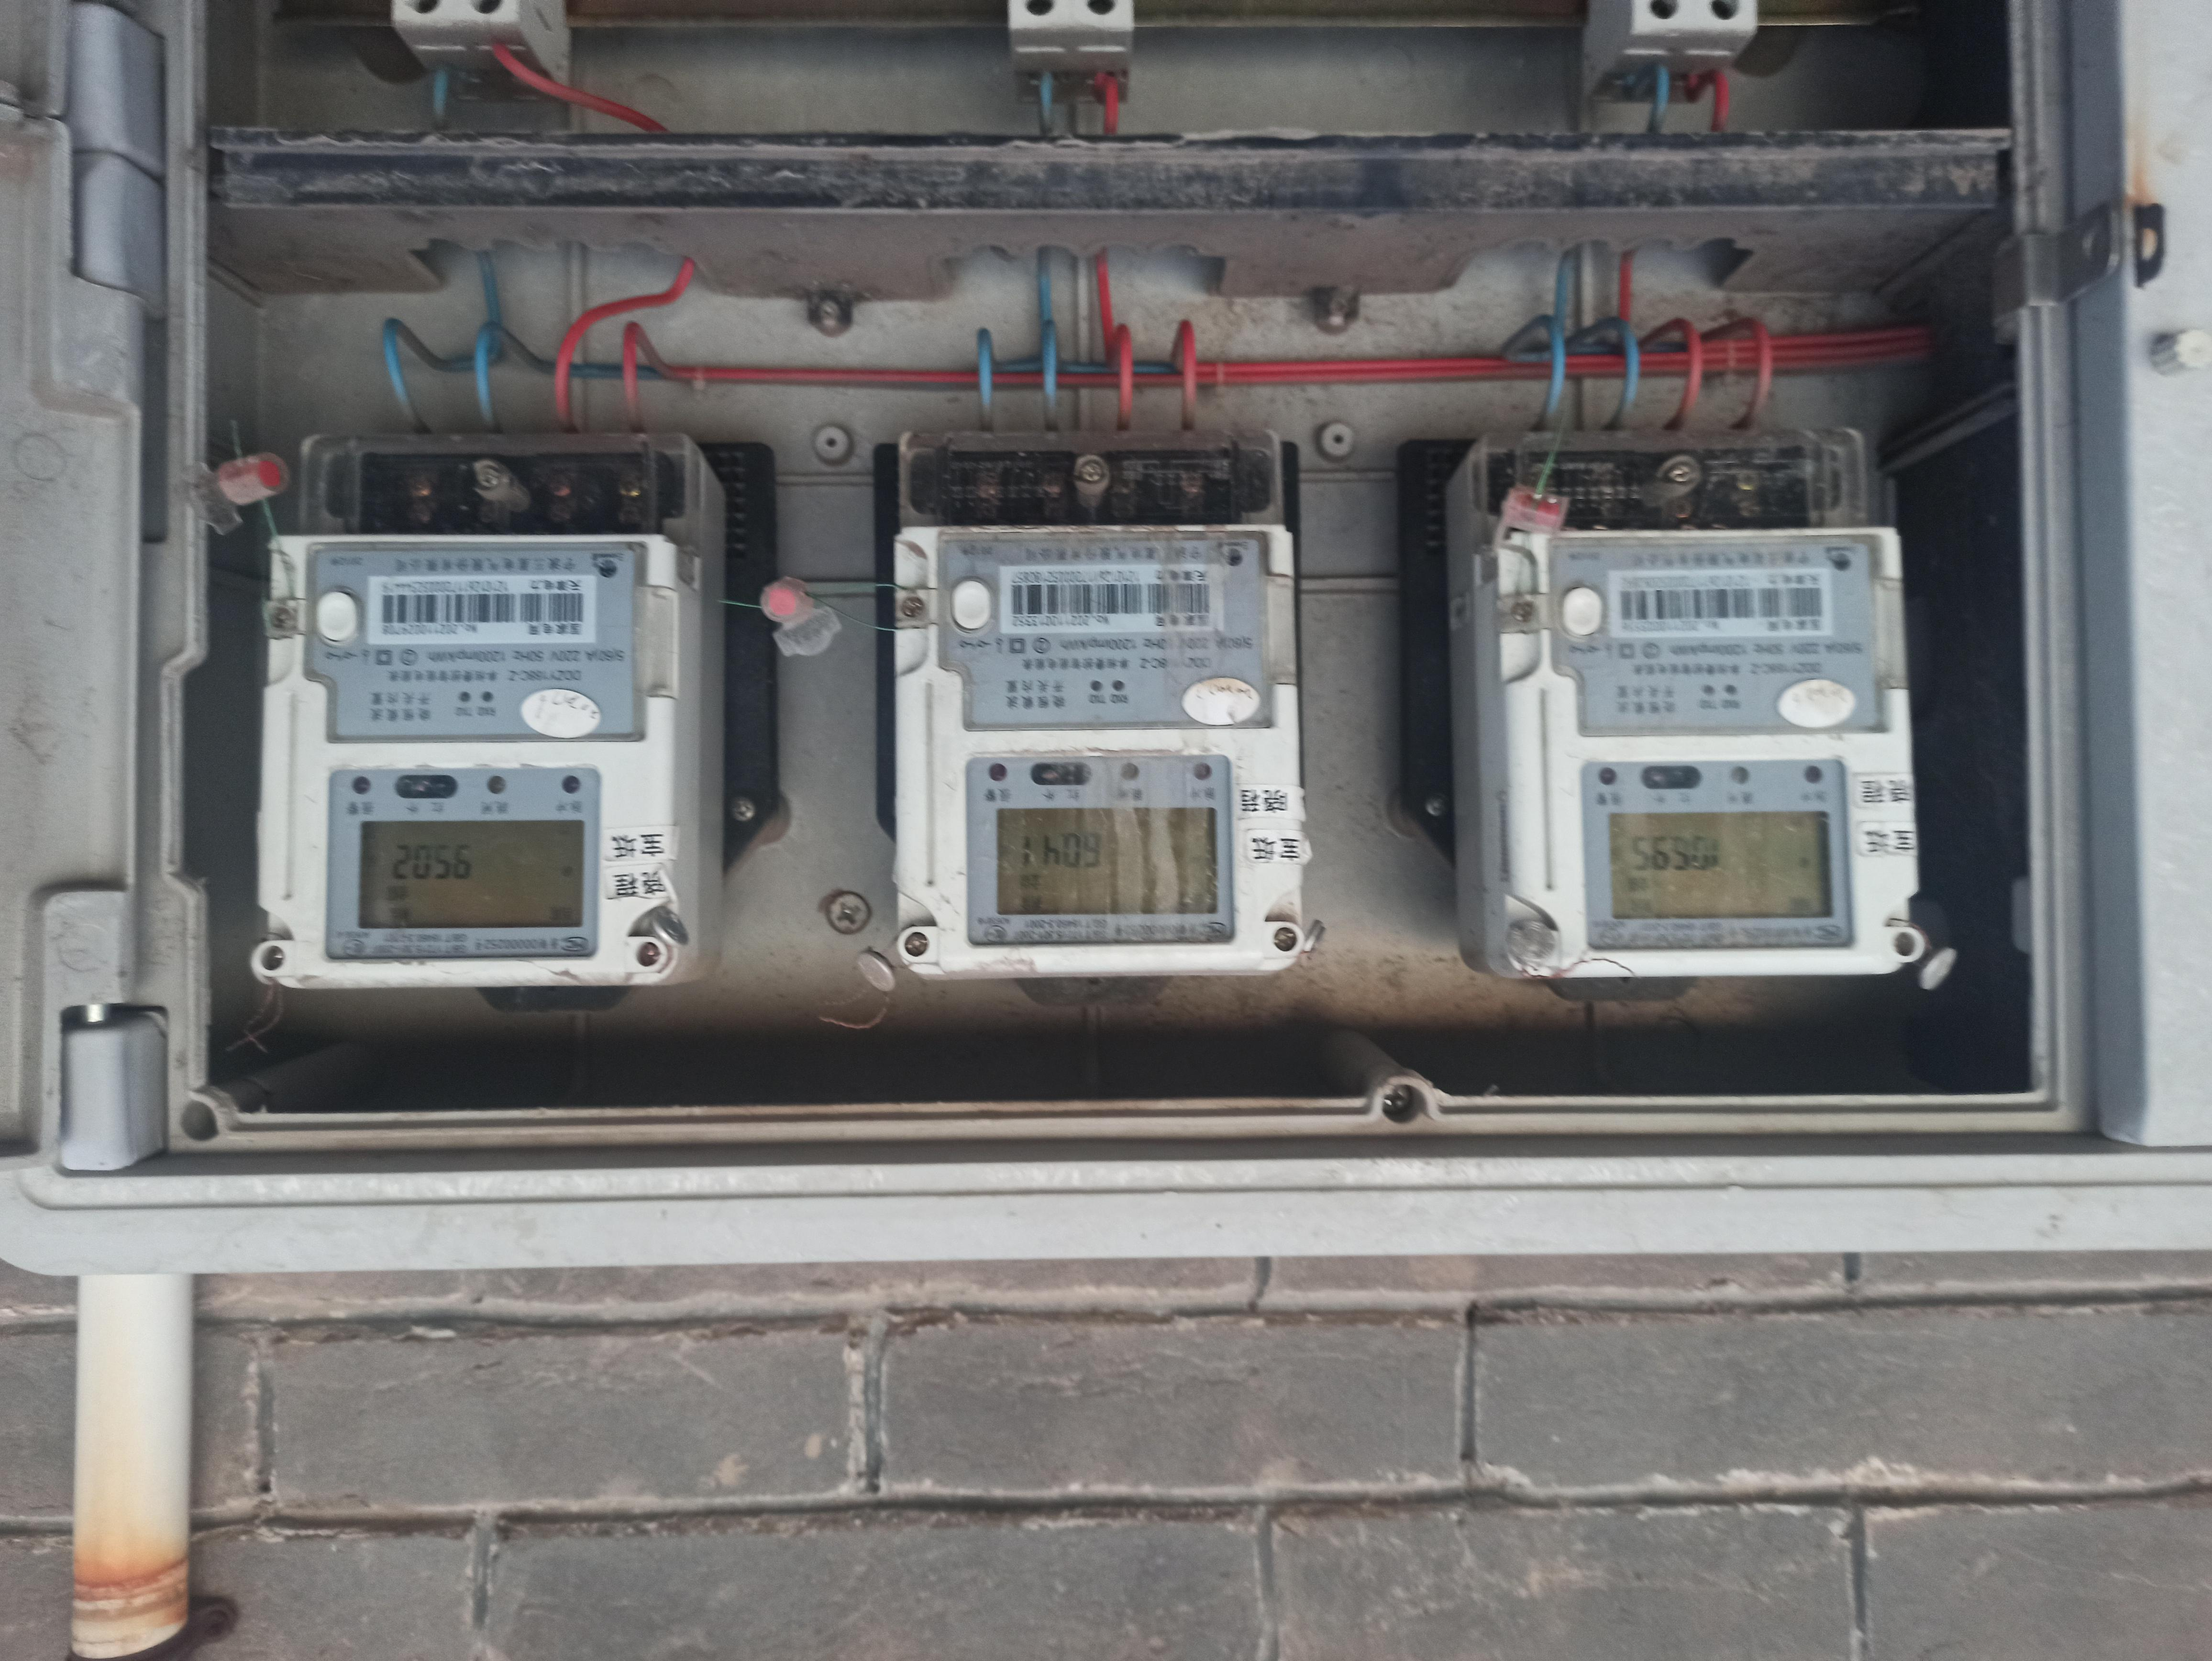digital: (1497, 530, 1919, 975), (893, 527, 1307, 967), (265, 539, 675, 981)
